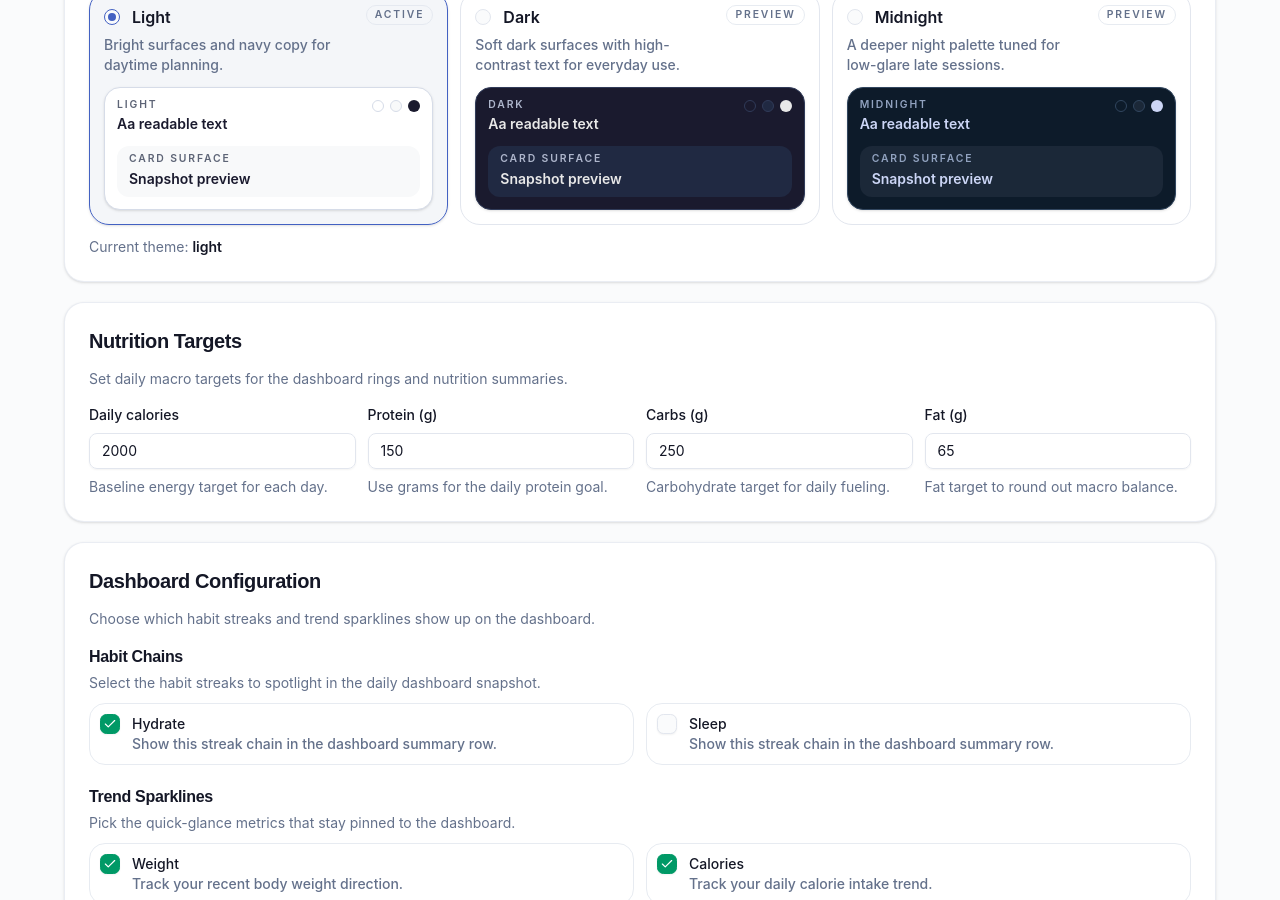
Test: SettingsPage › saves nutrition targets and dashboard config via API
(page scrolled)
Expected: the 1st checkbox named "Hydrate" is checked, [100,714,120,734]
Replace the text in the number field labelled "Daily calories" with "2250": (222, 451) [89,433,356,469]
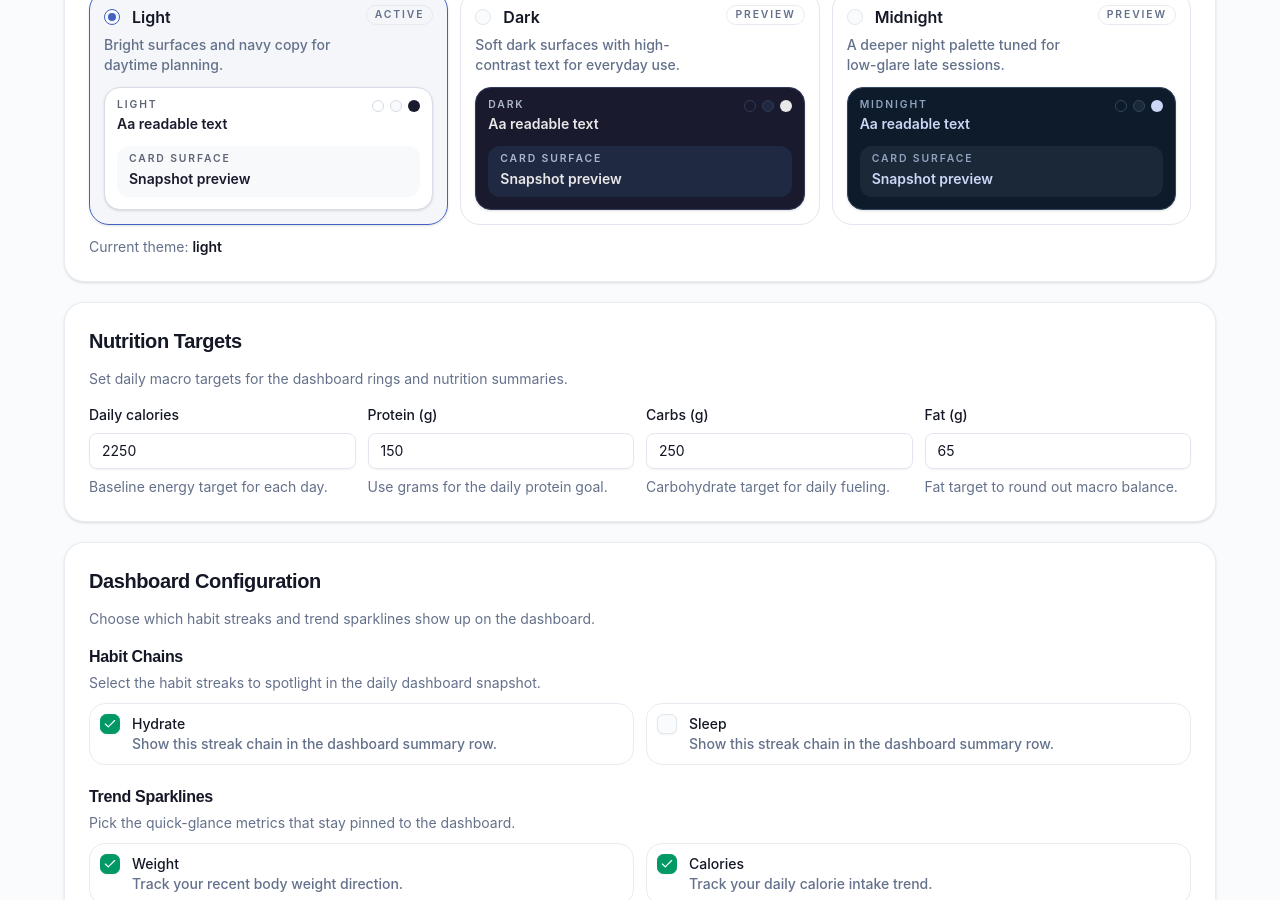
Click the checkbox named "Sleep" next to "Sleep": (667, 724) [657,714,677,734]
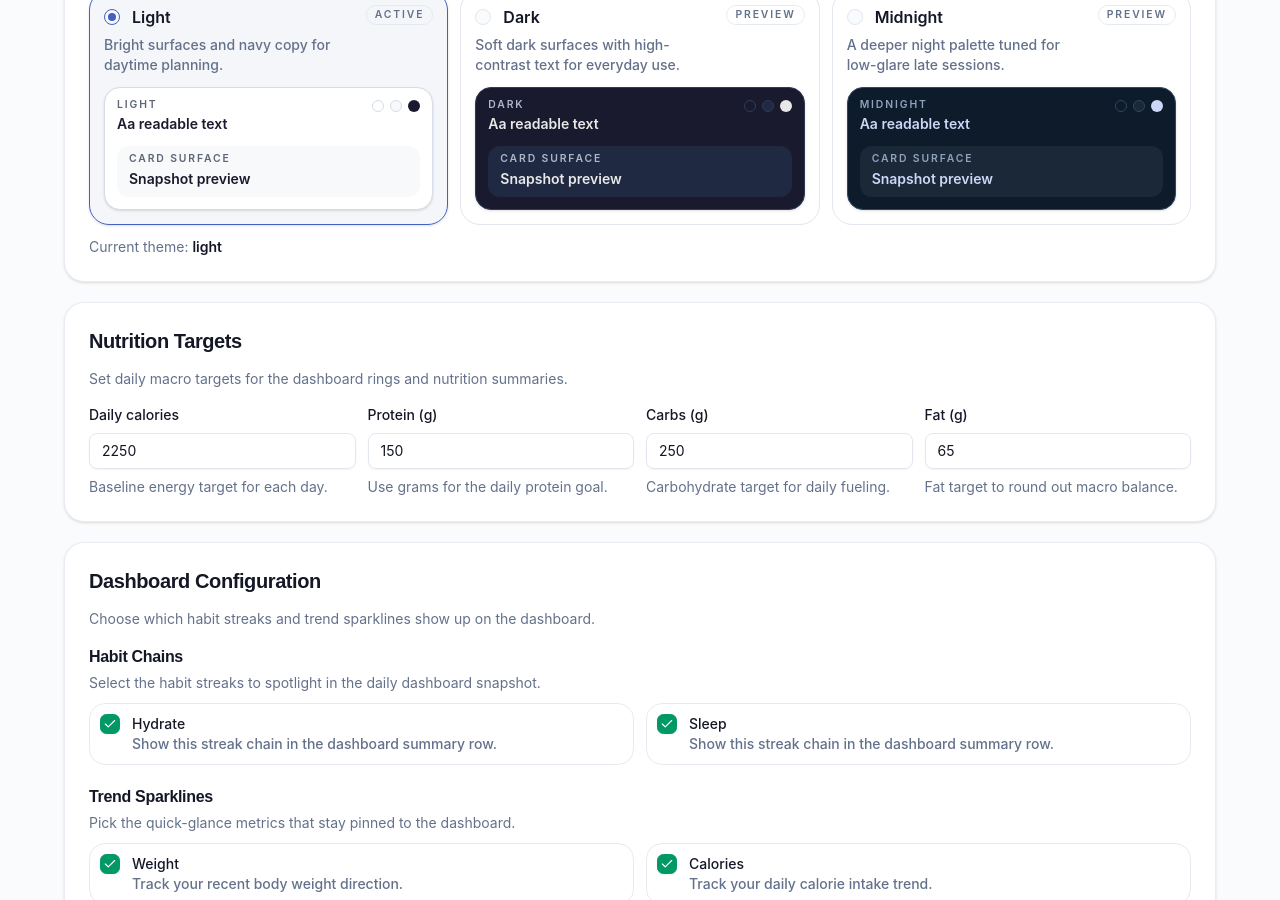
Click the 3rd checkbox named "Track your recent body weight direction": (110, 864) [100,854,120,874]
(page scrolled)
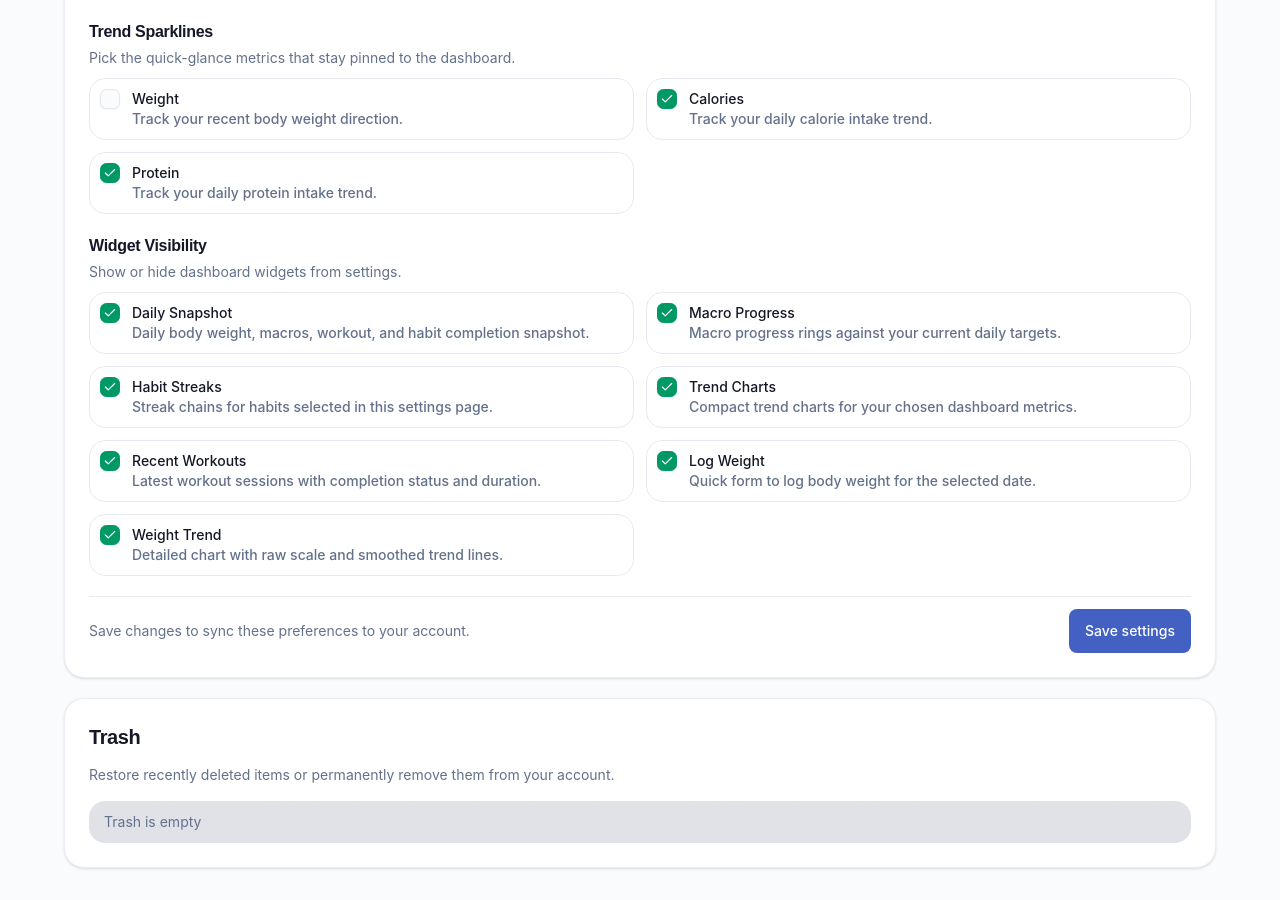
Click the button "Save settings": (1130, 631) [1069,609,1191,653]
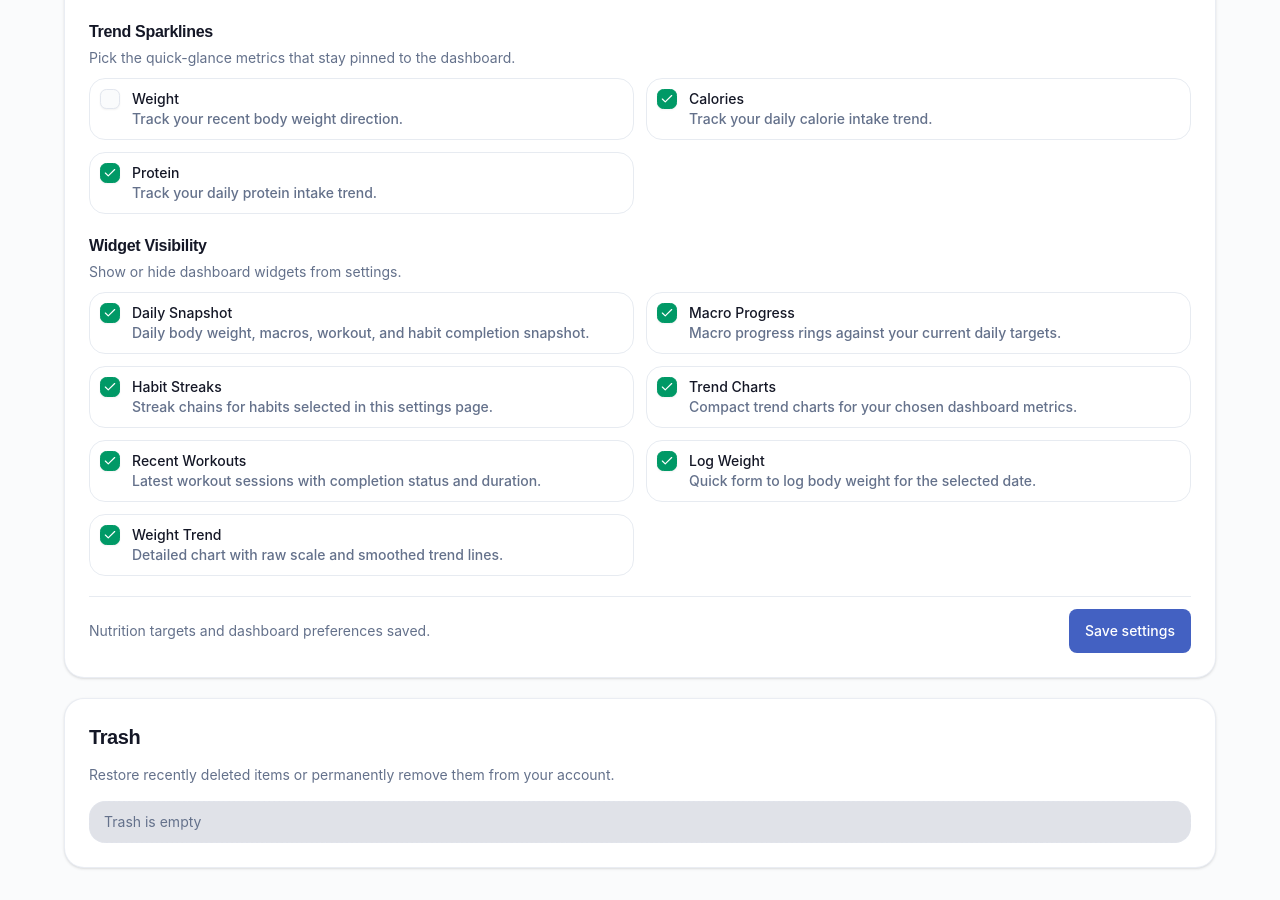
Now the text "Nutrition targets and dashboard preferences saved." is shown, box [89,621,430,641]
